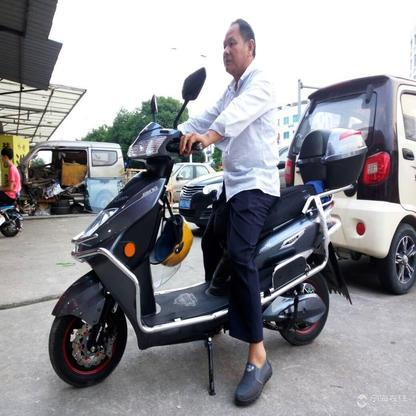target: (45, 17, 334, 383)
